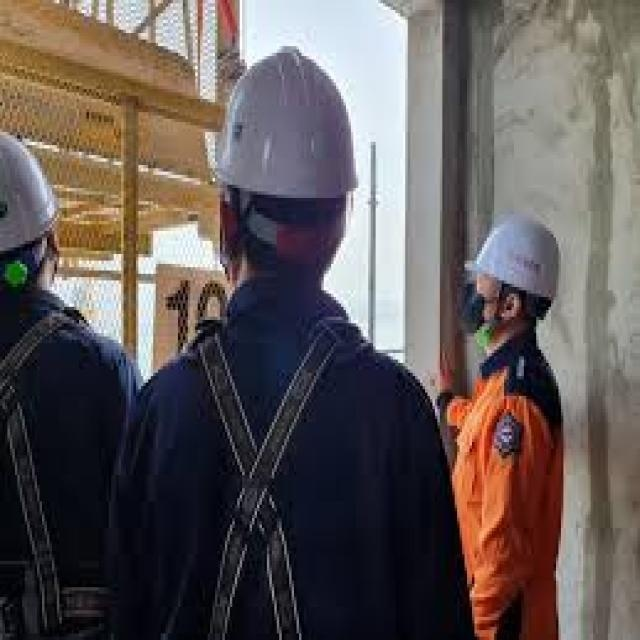Arnes_seguridad: (189, 319, 364, 640), (0, 303, 87, 640)
